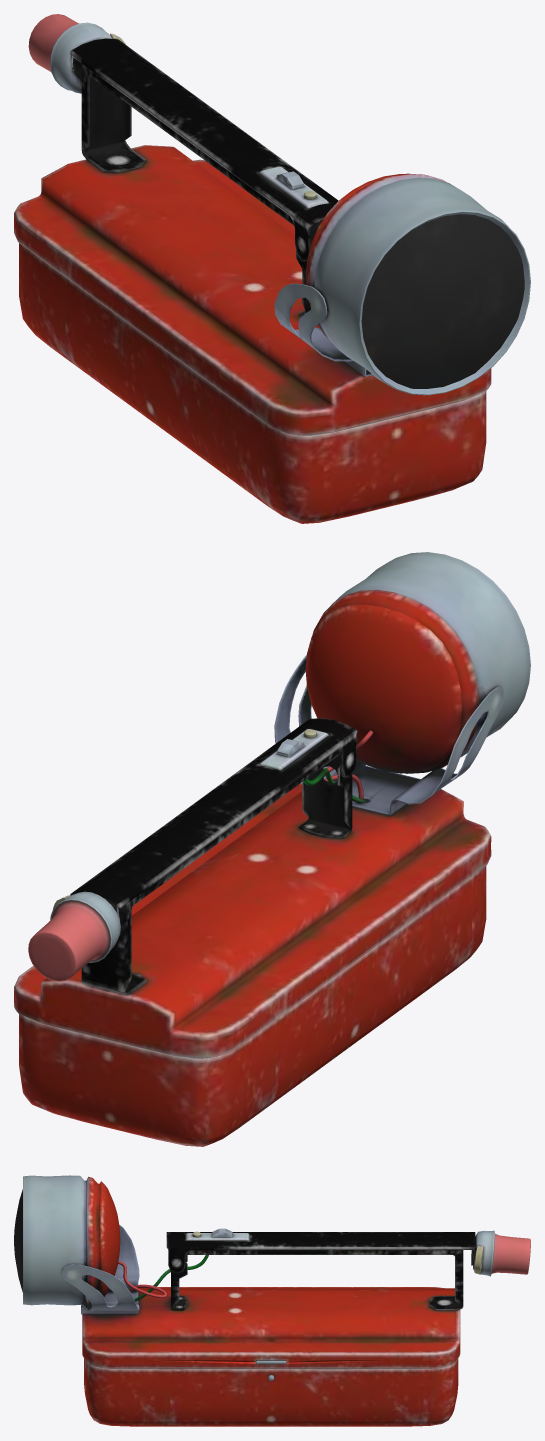
File: vintage_flashlight.76d2449b.glb
3 views of the same model, one above another, from view 1: azimuth 30°, elevation 25°; view 2: azimuth 150°, elevation 25°; view 3: azimuth 270°, elevation 25° (orthographic). The views are drawn at different scales.
Visible parts, largest first — view 1: vintage_flashlight; view 2: vintage_flashlight; view 3: vintage_flashlight.
Boxes of the visible parts, box(x1,y1,x2,y2) form: vintage_flashlight: box(14, 14, 530, 523); vintage_flashlight: box(14, 552, 530, 1146); vintage_flashlight: box(14, 1175, 530, 1426).
Size of the model in its own units: 0.226 by 0.3402 by 0.72.
2 materials, 2 textured.
